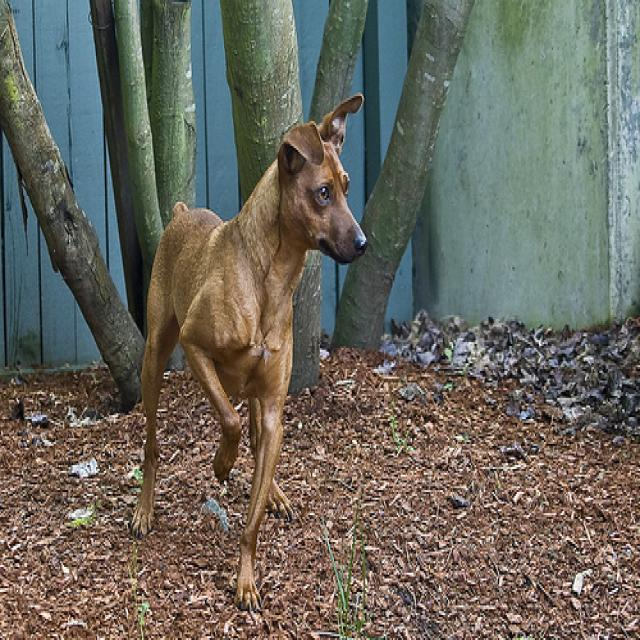dog-miniature_pinscher: (125, 88, 376, 615)
